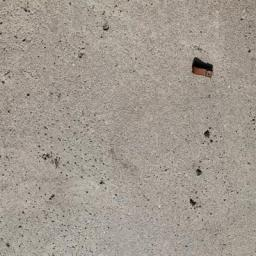FOD: (190, 55, 218, 81)
